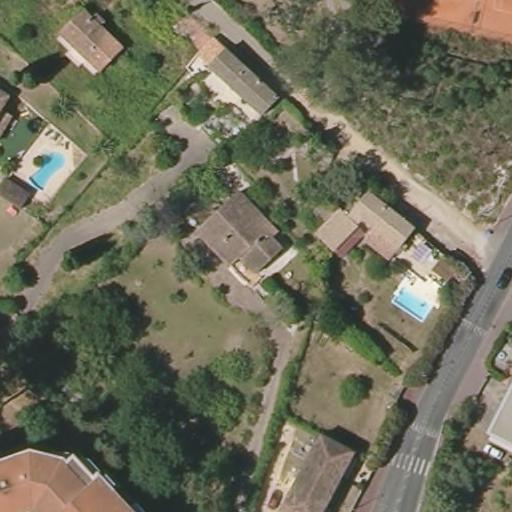pool: (24, 149, 68, 190), (392, 283, 434, 322)
